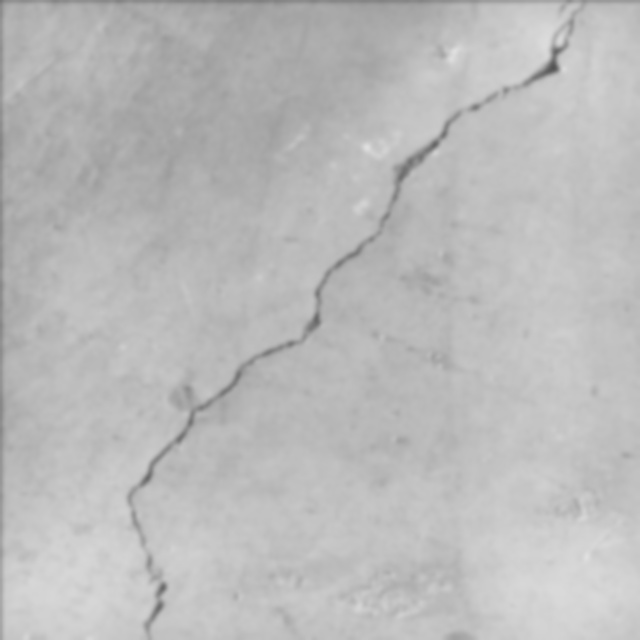SurfaceCrack: (82, 0, 629, 639)
